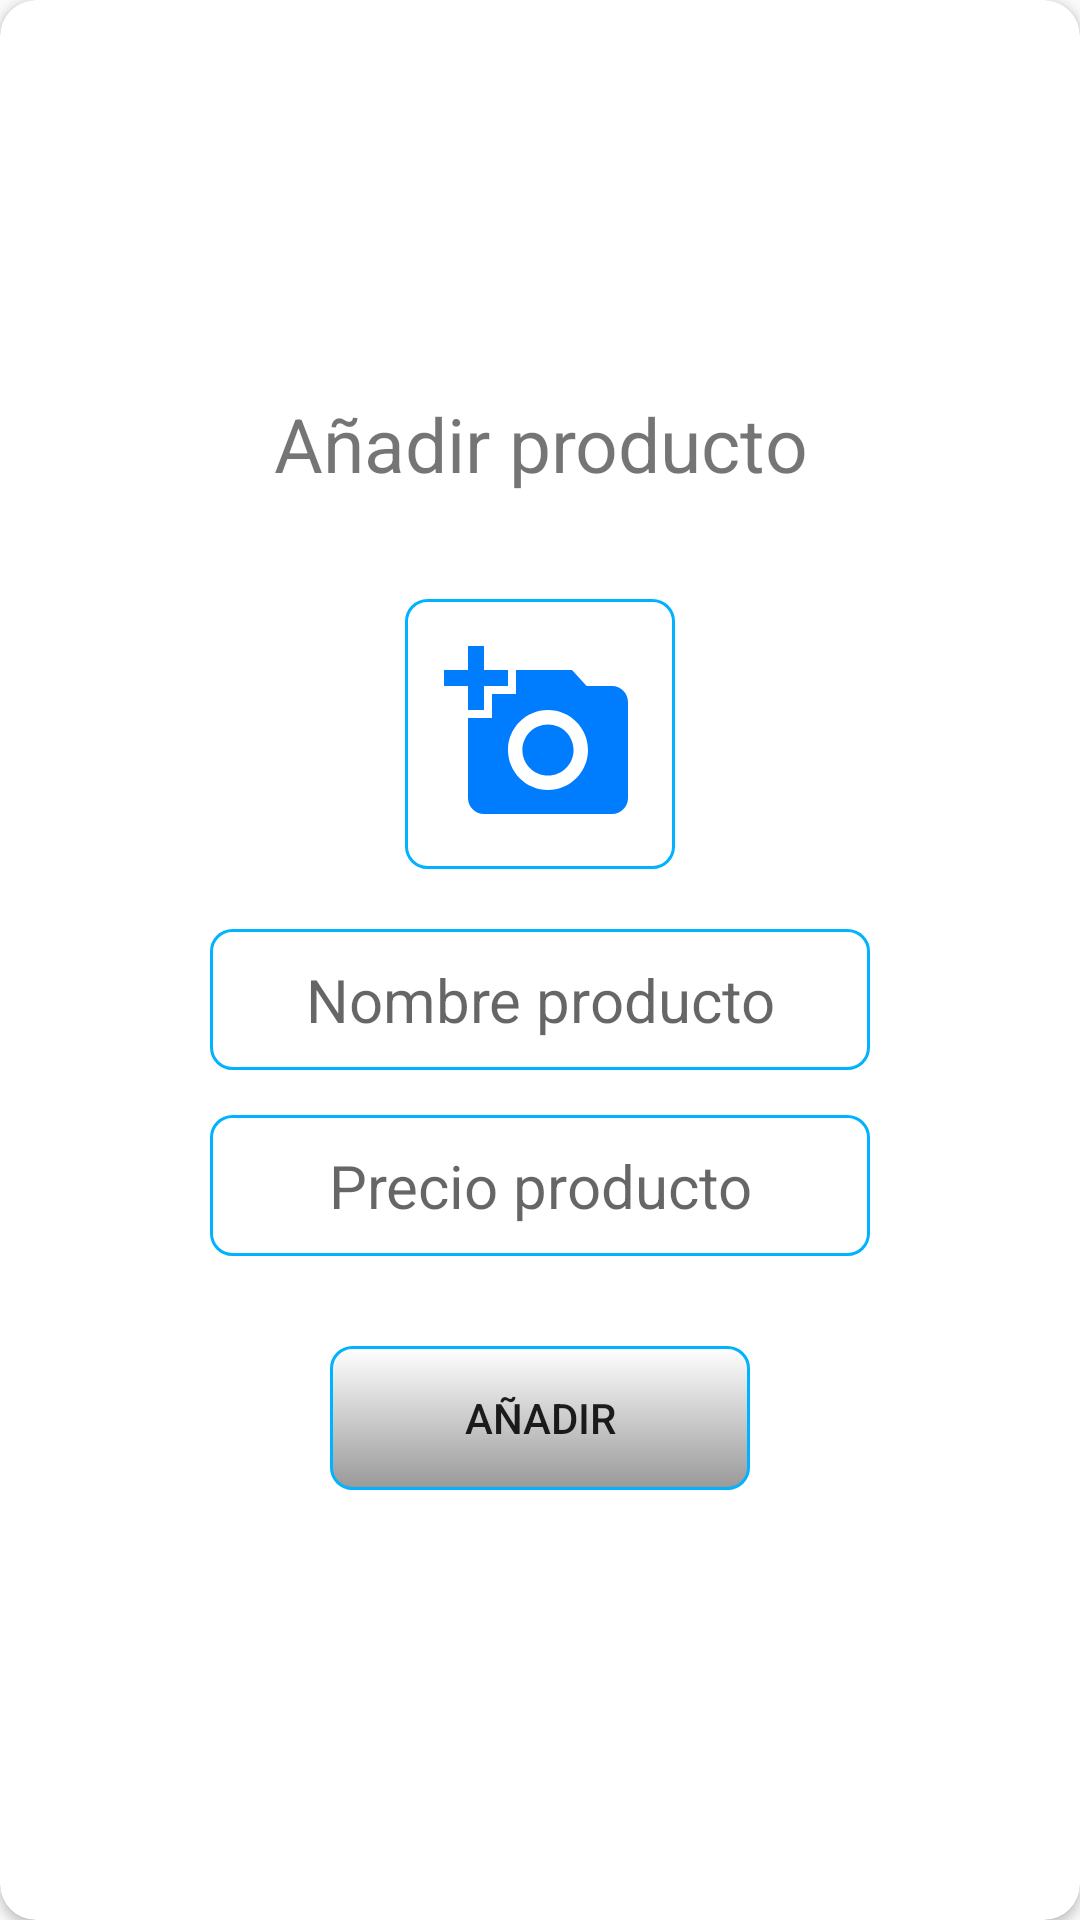

Icons on this 1080x1920 Android screen, each with the point to tap as [x,y]:
add photo: [540,734]
